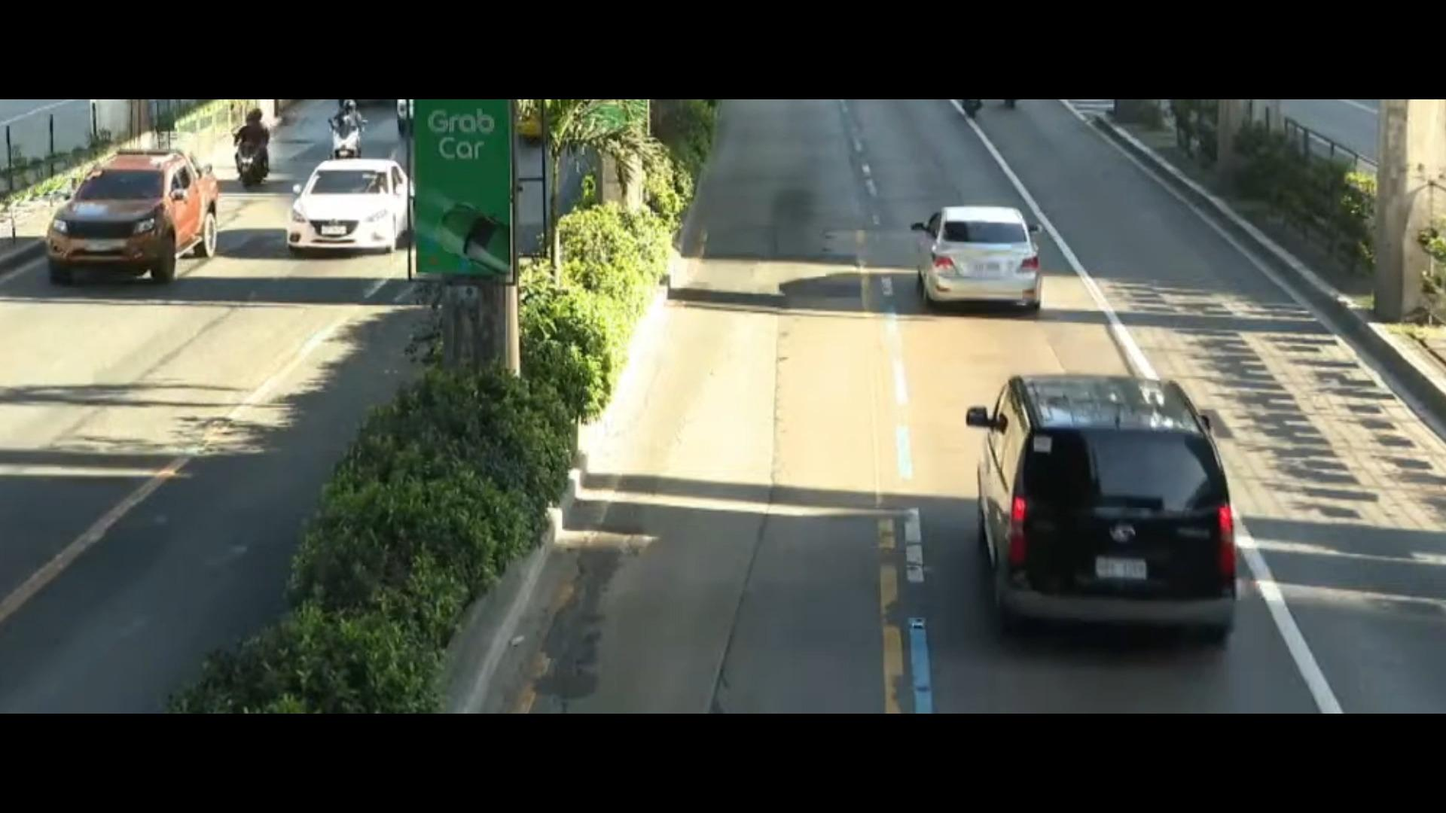Motorcycle: (217, 91, 283, 197), (318, 98, 373, 166)
Pickup: (48, 138, 236, 310)
Sedan: (885, 187, 1070, 334), (279, 157, 408, 261)
Van: (964, 333, 1245, 643)
